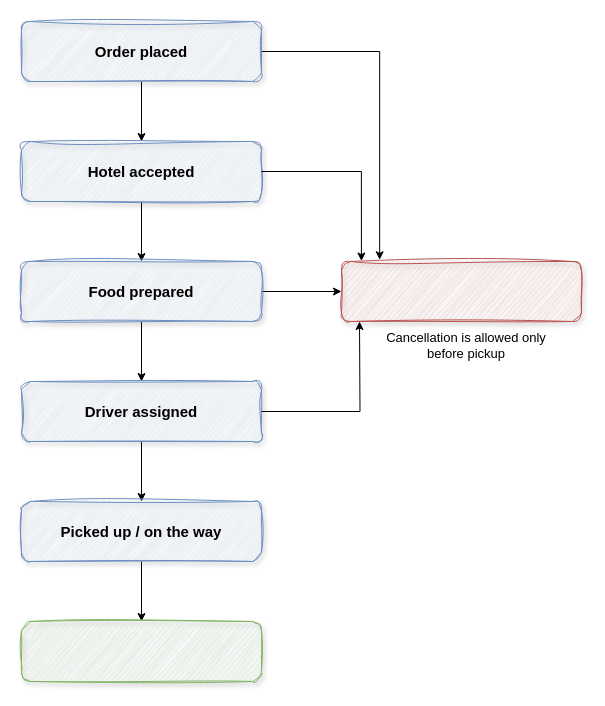
This 605x706 diagram has some shape labels left out. The centre of each missing label's shape, as x and y in pixels:
Delivered: [142,652]
Order cancelled: [462,292]
